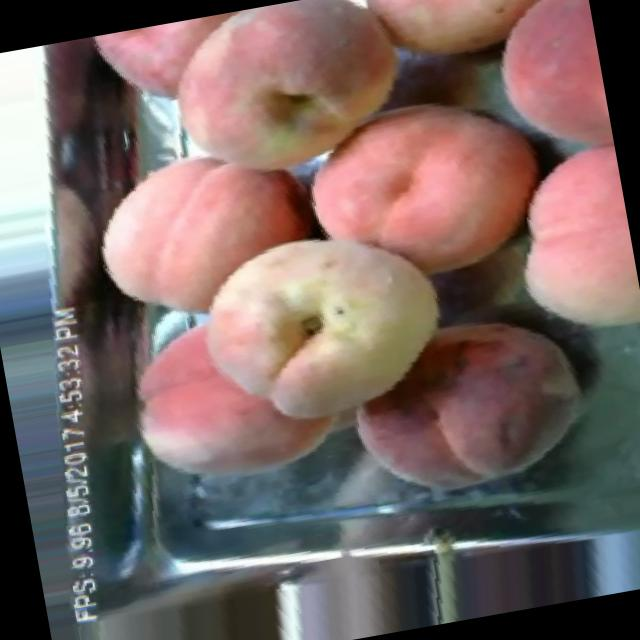Fruit: (278, 57, 572, 311), (177, 199, 468, 451), (143, 0, 442, 215), (332, 288, 607, 518), (72, 120, 324, 340), (111, 288, 343, 499), (491, 127, 640, 355), (446, 0, 615, 176)
